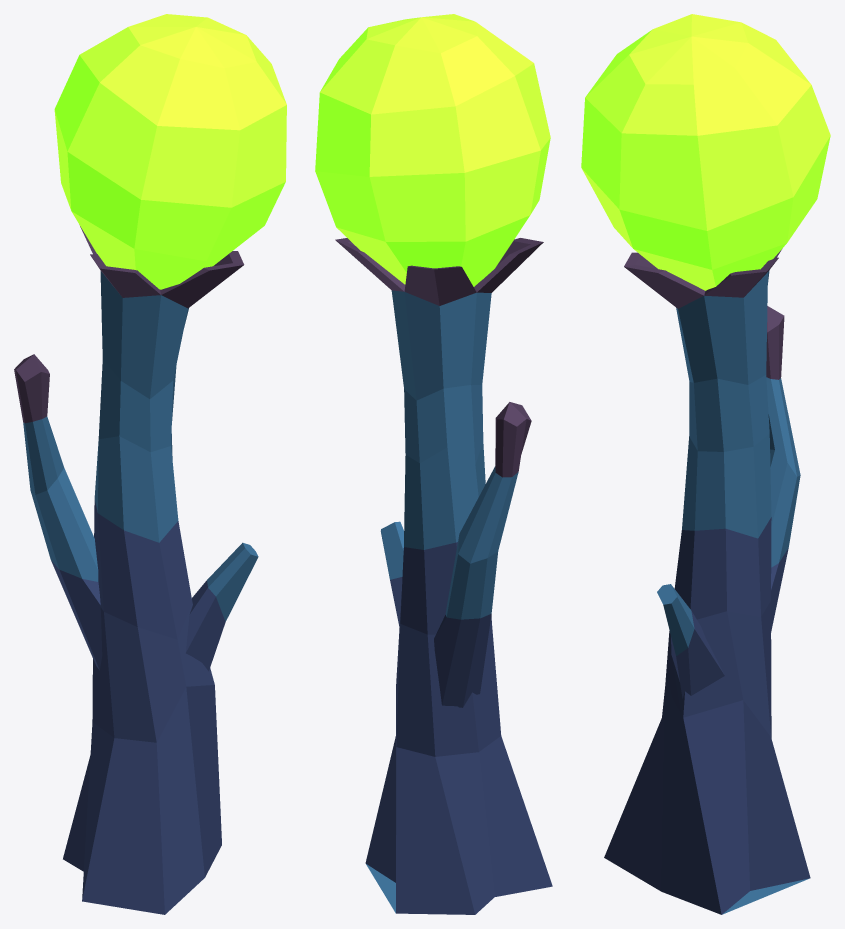
The model's file is scifi_scifi-tree-orb-big.fbx.
The picture shows the model from 3 angles, left to right: view 1: azimuth 30°, elevation 25°; view 2: azimuth 150°, elevation 25°; view 3: azimuth 270°, elevation 25°; orthographic projection. The views are drawn at different scales.
Parts seen in each view (by area): view 1: scifi_scifi_tree_orb_big; view 2: scifi_scifi_tree_orb_big; view 3: scifi_scifi_tree_orb_big.
Boxes of the visible parts, x1=… form: scifi_scifi_tree_orb_big: x1=14, y1=14, x2=286, y2=914; scifi_scifi_tree_orb_big: x1=315, y1=14, x2=552, y2=914; scifi_scifi_tree_orb_big: x1=581, y1=14, x2=830, y2=914.
Bounding box in the file's own units: 56.11 × 200 × 52.66.
